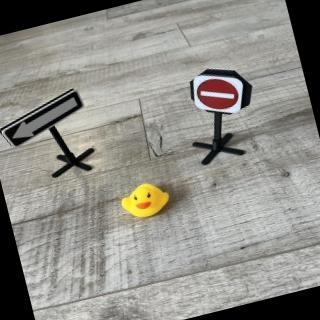duck_regular: (119, 180, 174, 224)
sign_noentry: (187, 65, 252, 125)
sign_oneway_left: (1, 87, 91, 153)
